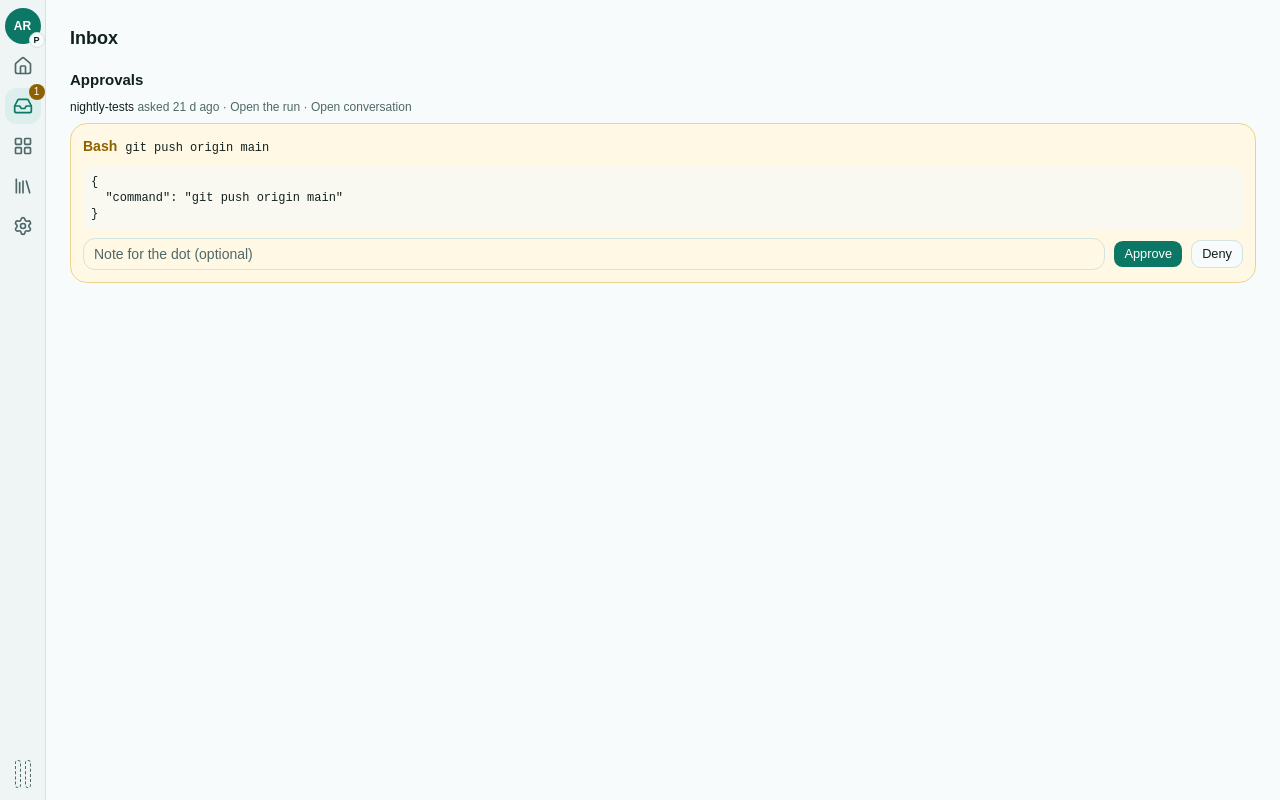
it: the Inbox's Open conversation › opens an older topic alone for an approval its run waits for
What coordinates should you click on to do the following:
click the link "Open conversation"
I would click on:
 (361, 107)
Its box is [311,100,412,114].
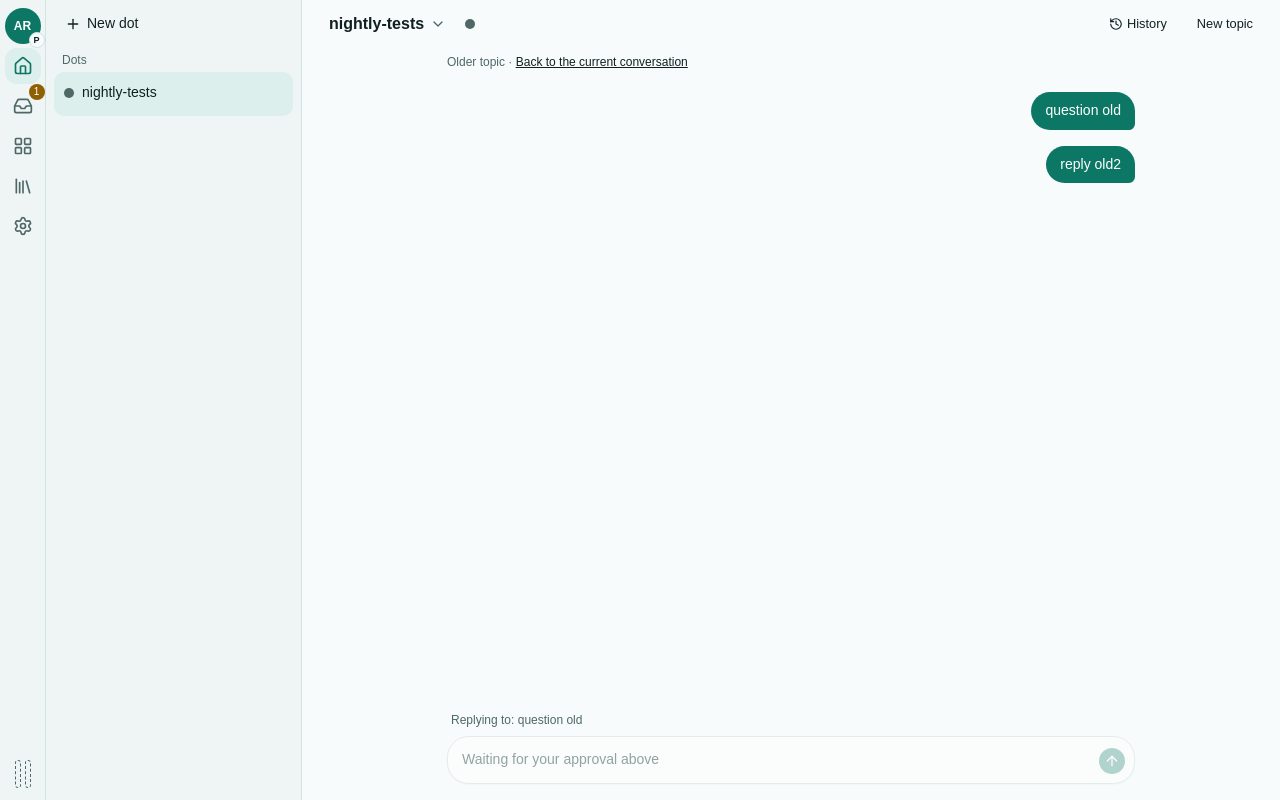
Result: the link "Back to the current conversation" is shown at [516,55,688,69]
